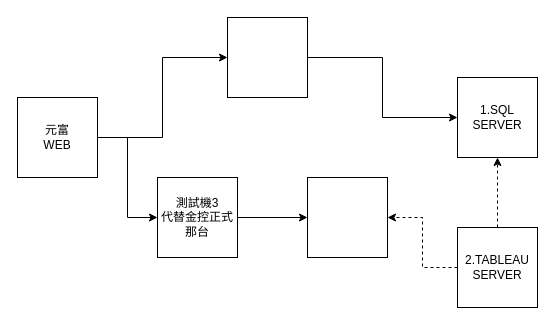
The diagram is 555 pixels wide and 325 high, and some of its shapes have lost their labels. The centre of each missing label's shape, as x and y in pixels:
4. 測試機 SQL SERVER: point 347,217
金控 正式: point 267,57
